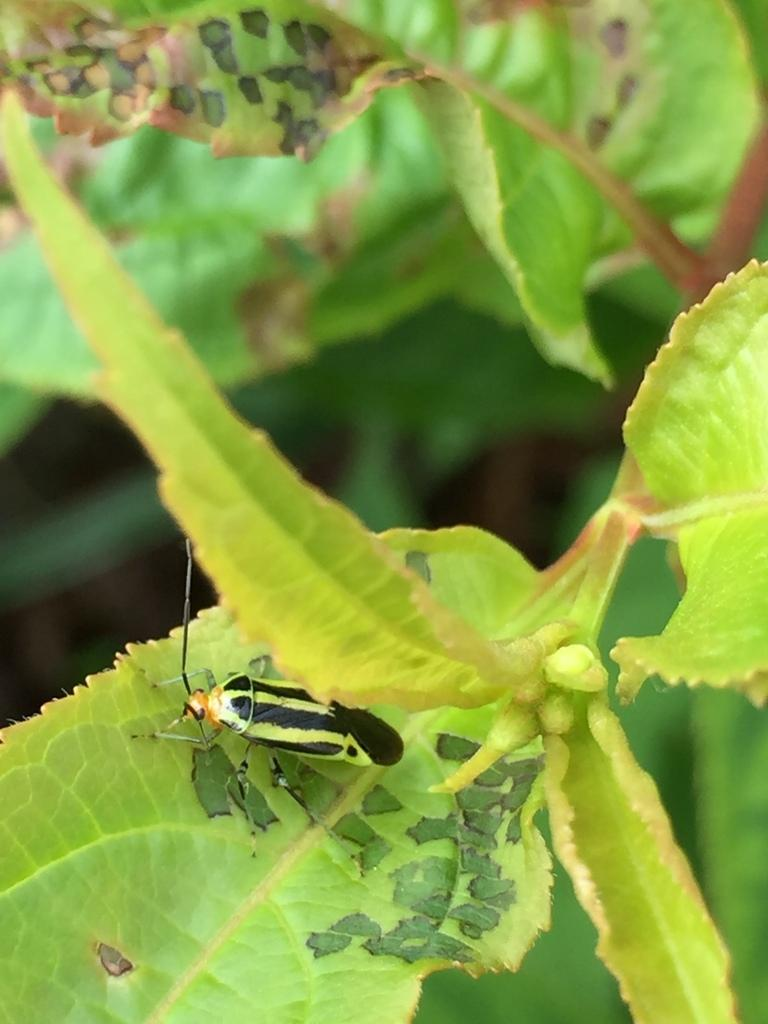plant_bugs: (93, 514, 436, 889)
